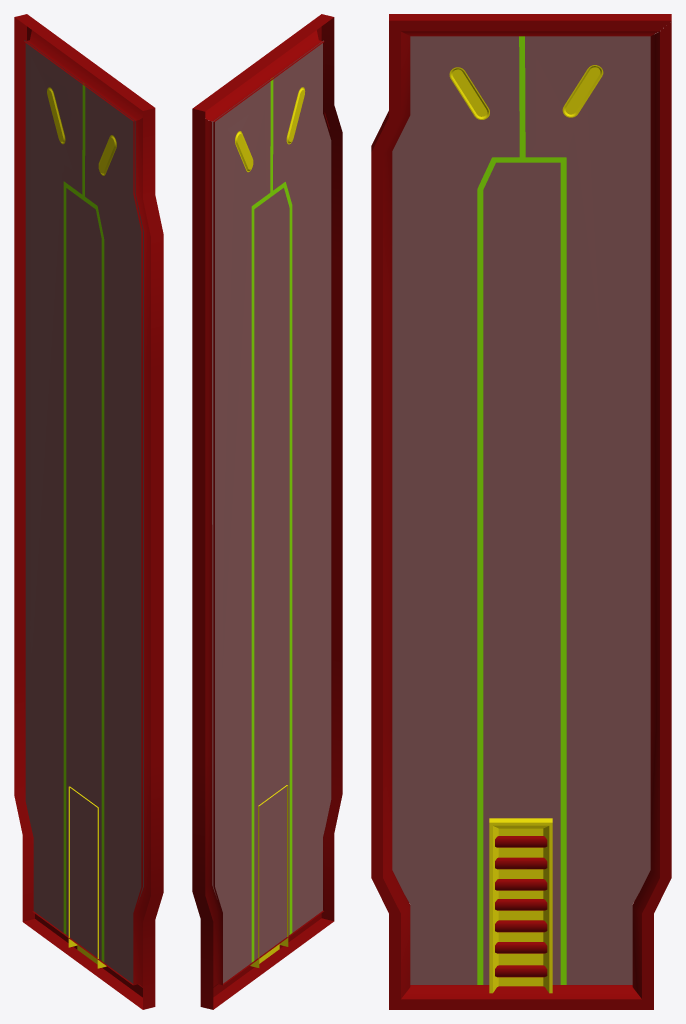
Rendered from Building_Wall_02m_snaps016.fbx.
3 renders of one model, left to right at view 1: azimuth 30°, elevation 25°; view 2: azimuth 150°, elevation 25°; view 3: azimuth 270°, elevation 25°, orthographic. The views are drawn at different scales.
Parts seen in each view (by area): view 1: Building_Wall_02m_snaps016_LOD0; view 2: Building_Wall_02m_snaps016_LOD0; view 3: Building_Wall_02m_snaps016_LOD0.
Part boxes in pixels (x1,y1,x2,y2): Building_Wall_02m_snaps016_LOD0: (14,14,163,1009); Building_Wall_02m_snaps016_LOD0: (192,14,342,1009); Building_Wall_02m_snaps016_LOD0: (371,14,671,1009).
Size of what is drawn, in the model's own units: 0.1361 by 9.26 by 2.55.
